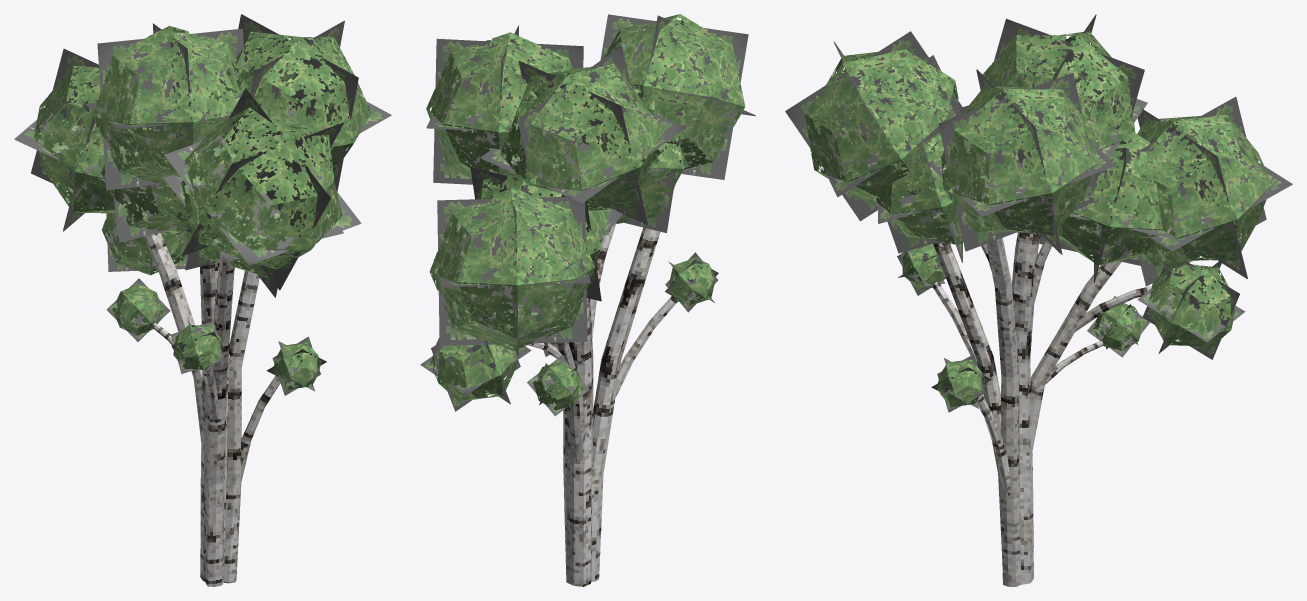
The model's file is birch1.glb.
3 views of the same model, side by side, from view 1: azimuth 30°, elevation 25°; view 2: azimuth 150°, elevation 25°; view 3: azimuth 270°, elevation 25° (orthographic).
Parts seen in each view (by area): view 1: birch1; view 2: birch1; view 3: birch1.
Boxes of the visible parts, x1,y1,x2,y2 form: birch1: [14, 14, 391, 586]; birch1: [420, 14, 755, 586]; birch1: [785, 14, 1292, 586].
Bounding box in the file's own units: 8.07 × 15.92 × 13.49.
3 materials, 3 textured.
